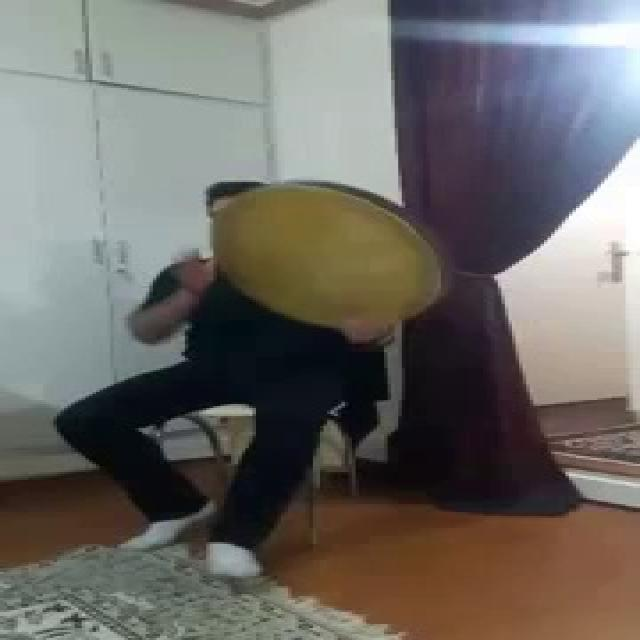Daf: (189, 178, 454, 336)
